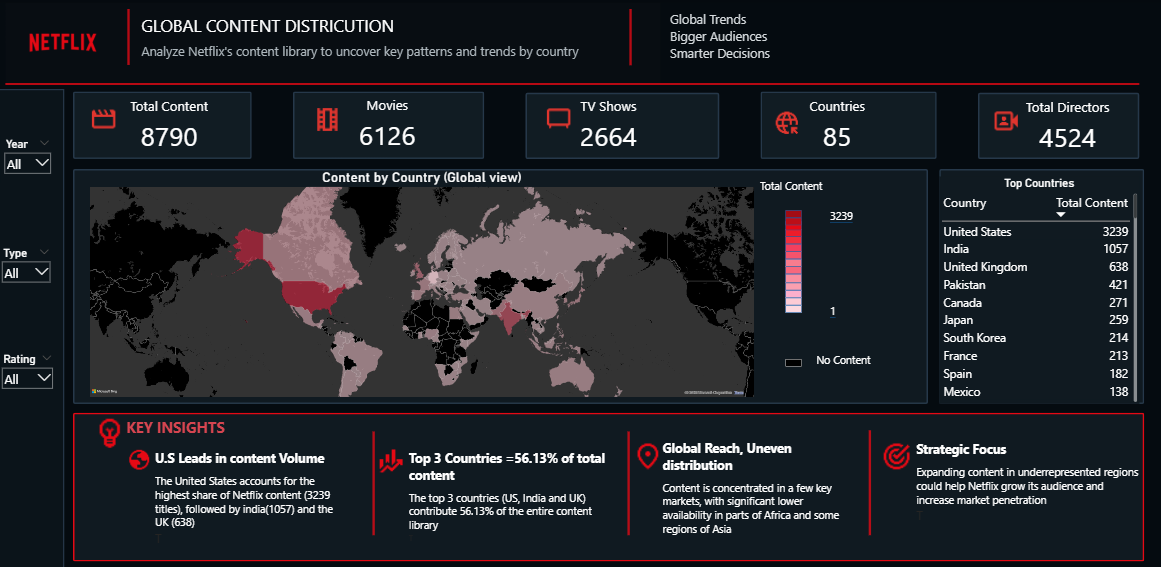

This screenshot's page, from the dashboard's own definition file:
{"tool":"powerbi","page":{"name":"Task 2","canvas":[1700,1300],"ordinal":0},"visuals":[{"type":"shape","box":[18.1,10.1,1656.8,205.1],"z":0},{"type":"shape","box":[0,228.7,167.7,1056.5],"z":1000},{"type":"cardVisual","fields":{"Data":["Keymetrics.Countries"]},"box":[1427.6,251.3,211.1,112.6],"z":2000},{"type":"shape","box":[189.5,858.2,799.4,426.9],"z":3000},{"type":"shape","box":[189,229.2,283.5,176.9],"z":4000},{"type":"shape","box":[189,428.3,460.5,410.2],"z":5000},{"type":"shape","box":[1012.9,858.2,662.2,426.9],"z":6000},{"type":"shape","box":[663.5,428.3,538.9,410.2],"z":7000},{"type":"shape","box":[1216.5,428.3,458.4,410.2],"z":8000},{"type":"shape","box":[490.6,229.2,281.5,176.9],"z":9000},{"type":"shape","box":[790.2,229.2,283.5,176.9],"z":10000},{"type":"shape","box":[1091.8,229.2,281.5,176.9],"z":11000},{"type":"shape","box":[1391.4,229.2,283.5,176.9],"z":12000},{"type":"shape","box":[18.1,164.9,1656.8,98.5],"z":13000},{"type":"image","box":[0,0,285.5,191],"z":14000},{"type":"textbox","box":[327.7,50.3,291.6,164.9],"z":15000},{"type":"textbox","box":[1236.6,48.3,333.8,166.9],"z":16000},{"type":"shape","box":[160.9,24.1,241.3,140.8],"z":17000},{"type":"shape","box":[1059.7,26.1,241.3,140.8],"z":18000},{"type":"image","box":[143.8,10.9,1468.2,204.8],"z":19000},{"type":"cardVisual","fields":{"Data":["Keymetrics.Total Content"]},"box":[211.3,241.8,261.4,139.4],"z":20000},{"type":"cardVisual","fields":{"Data":["Keymetrics.Movies"]},"box":[461.8,241.8,313.7,139.4],"z":21000},{"type":"cardVisual","fields":{"Data":["Keymetrics.TV Shows"]},"box":[810.3,239.6,263.6,139.4],"z":22000},{"type":"cardVisual","fields":{"Data":["Keymetrics.Countries"]},"box":[1099.9,241.3,263.4,138.7],"z":23000},{"type":"cardVisual","fields":{"Data":["Keymetrics.Total Directors"]},"box":[1426.8,237.4,263.6,137.2],"z":24000},{"type":"donutChart","title":"Movies vs TV Shows","fields":{"Category":["Dataset.type"],"Y":["Keymetrics.Total Content"]},"box":[195,442.4,436.3,396.1],"z":25000},{"type":"lineChart","title":"Total Content Added Over Time","fields":{"Category":["Dataset.release_year"],"Y":["Keymetrics.Total Content"]},"box":[196,877.9,775.5,374.7],"z":26000},{"type":"clusteredBarChart","title":"Top Genres","fields":{"Category":["Dataset.Genre"],"Y":["Keymetrics.Total Content"]},"box":[684,442.2,496.7,381.2],"z":27000},{"type":"clusteredColumnChart","title":"Top Content by Rating","fields":{"Category":["Dataset.rating"],"Y":["Keymetrics.Total Content"]},"box":[1017.3,871.3,657.8,381.2],"z":28000},{"type":"tableEx","title":"Top  Countries","fields":{"Values":["Dataset.country","Keymetrics.Total Content"]},"box":[1243.8,453.1,394.3,361.6],"z":29000},{"type":"slicer","fields":{"Values":["Dataset.release_year"]},"box":[6.5,344.2,137.2,122],"z":30000},{"type":"slicer","fields":{"Values":["Dataset.Content Type"]},"box":[0,517,143.8,122],"z":31000},{"type":"slicer","fields":{"Values":["Dataset.Country"]},"box":[0,701.4,141.6,122],"z":32000},{"type":"slicer","fields":{"Values":["Dataset.rating"]},"box":[6.5,871.3,150.3,122],"z":33000},{"type":"image","box":[816.9,250.5,61,65.3],"z":34000},{"type":"image","box":[490.1,246.1,93.7,65.3],"z":35000},{"type":"image","box":[196,250.5,71.9,67.5],"z":36000},{"type":"image","box":[1100,252.7,80.6,65.3],"z":37000},{"type":"image","box":[1387.6,250.5,95.8,71.9],"z":38000}]}

Visuals, with their boxes on the page's 1700x1300 design canvas (x1, y1, x2, y2). These are canvas units, not pixel positions in the 1161x567 screenshot, which may show the page scaled, cropped or inside an application window:
shape: left=18, top=10, right=1675, bottom=215
shape: left=0, top=229, right=168, bottom=1285
cardVisual - Keymetrics.Countries: left=1428, top=251, right=1639, bottom=364
shape: left=190, top=858, right=989, bottom=1285
shape: left=189, top=229, right=472, bottom=406
shape: left=189, top=428, right=650, bottom=838
shape: left=1013, top=858, right=1675, bottom=1285
shape: left=664, top=428, right=1202, bottom=838
shape: left=1216, top=428, right=1675, bottom=838
shape: left=491, top=229, right=772, bottom=406
shape: left=790, top=229, right=1074, bottom=406
shape: left=1092, top=229, right=1373, bottom=406
shape: left=1391, top=229, right=1675, bottom=406
shape: left=18, top=165, right=1675, bottom=263
image: left=0, top=0, right=286, bottom=191
textbox: left=328, top=50, right=619, bottom=215
textbox: left=1237, top=48, right=1570, bottom=215
shape: left=161, top=24, right=402, bottom=165
shape: left=1060, top=26, right=1301, bottom=167
image: left=144, top=11, right=1612, bottom=216
cardVisual - Keymetrics.Total Content: left=211, top=242, right=473, bottom=381
cardVisual - Keymetrics.Movies: left=462, top=242, right=776, bottom=381
cardVisual - Keymetrics.TV Shows: left=810, top=240, right=1074, bottom=379
cardVisual - Keymetrics.Countries: left=1100, top=241, right=1363, bottom=380
cardVisual - Keymetrics.Total Directors: left=1427, top=237, right=1690, bottom=375
"Movies vs TV Shows" donutChart: left=195, top=442, right=631, bottom=838
"Total Content Added Over Time" lineChart: left=196, top=878, right=972, bottom=1253
"Top Genres" clusteredBarChart: left=684, top=442, right=1181, bottom=823
"Top Content by Rating" clusteredColumnChart: left=1017, top=871, right=1675, bottom=1252
"Top  Countries" tableEx: left=1244, top=453, right=1638, bottom=815
slicer - Dataset.release_year: left=6, top=344, right=144, bottom=466
slicer - Dataset.Content Type: left=0, top=517, right=144, bottom=639
slicer - Dataset.Country: left=0, top=701, right=142, bottom=823
slicer - Dataset.rating: left=6, top=871, right=157, bottom=993
image: left=817, top=250, right=878, bottom=316
image: left=490, top=246, right=584, bottom=311
image: left=196, top=250, right=268, bottom=318
image: left=1100, top=253, right=1181, bottom=318
image: left=1388, top=250, right=1483, bottom=322
